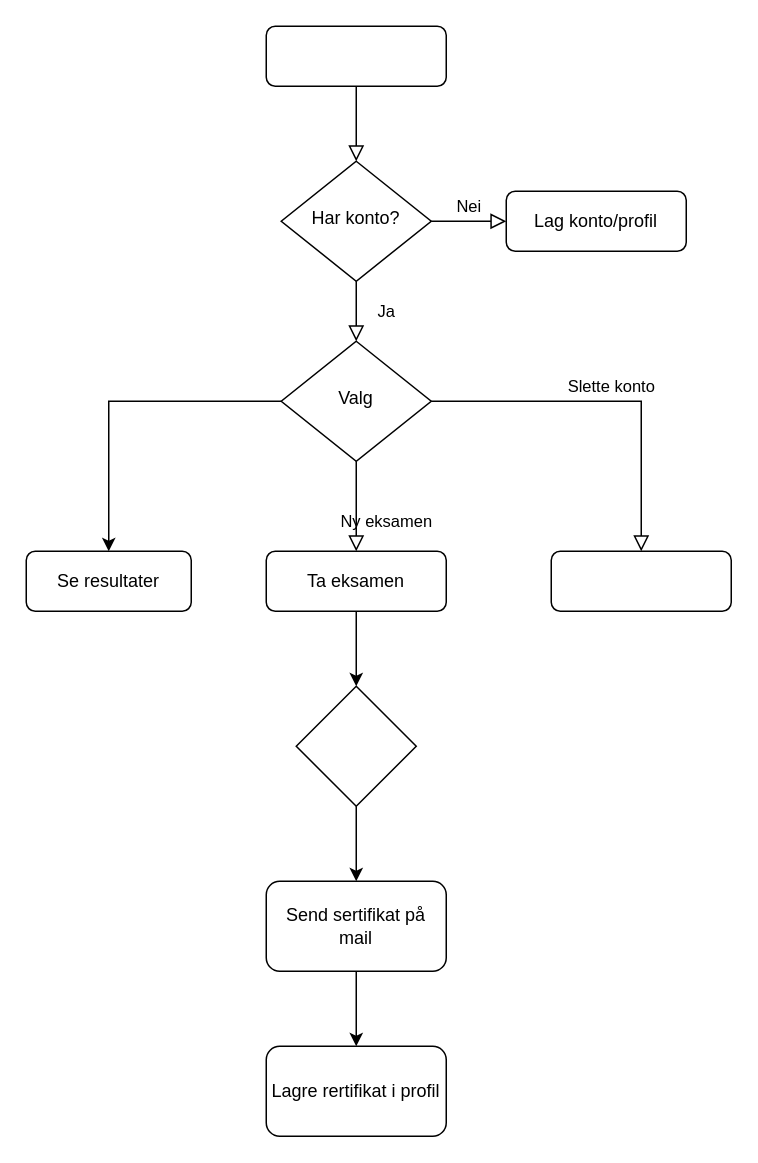
Image size: 758x1163. Some labels were removed from this diagram. The shapes that lost their labels are listed below. From the top down, each one's centre as x and y in pixels, then its label:
[355,55]: Deltaker trykker på link
[640,580]: Slett konto
[355,745]: Godkjent?
